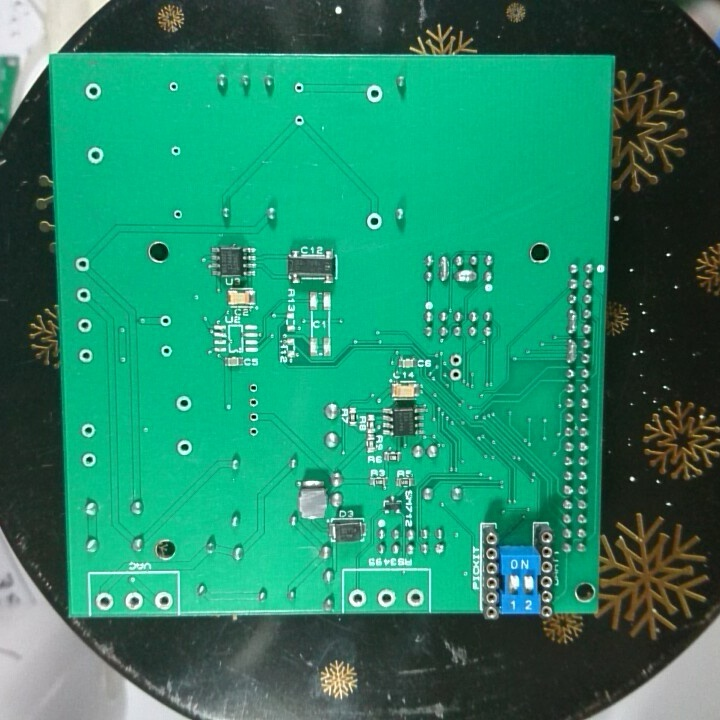F: (402, 585, 428, 609), (71, 254, 95, 277), (346, 586, 370, 609), (376, 586, 398, 611), (84, 144, 107, 167), (94, 590, 117, 613), (82, 80, 104, 104), (363, 83, 385, 106), (171, 393, 194, 415), (123, 589, 145, 612), (363, 209, 383, 234), (152, 589, 174, 611), (74, 285, 94, 306), (78, 420, 97, 440), (174, 438, 193, 458), (77, 346, 95, 367), (80, 449, 98, 470), (74, 317, 94, 335), (157, 312, 174, 332), (157, 341, 174, 361), (245, 423, 265, 440), (445, 366, 465, 383), (165, 79, 182, 95), (167, 142, 183, 159), (170, 206, 185, 224), (447, 352, 465, 367), (246, 409, 263, 424), (246, 380, 261, 396), (246, 395, 262, 410), (292, 113, 306, 129), (292, 80, 306, 95)
P: (454, 266, 478, 286), (563, 337, 579, 366), (437, 252, 451, 284), (565, 308, 579, 337)
